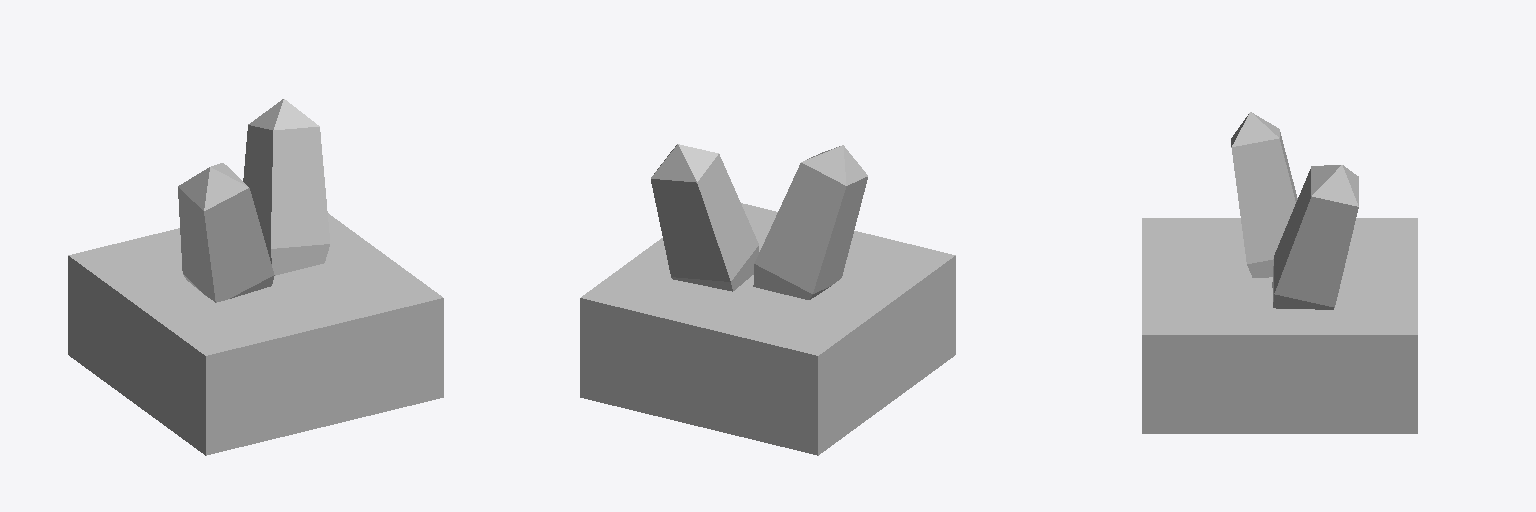
Rendered from tile_075.obj.
3 renders of one model, left to right at view 1: azimuth 30°, elevation 25°; view 2: azimuth 150°, elevation 25°; view 3: azimuth 270°, elevation 25°, orthographic.
Parts seen in each view (by area): view 1: Group; view 2: Group; view 3: Group.
Boxes of the visible parts, <box> form: Group: <box>68,99,443,455</box>; Group: <box>580,144,955,455</box>; Group: <box>1142,112,1417,433</box>.
Size of the model in its own units: 1 by 0.9653 by 1.